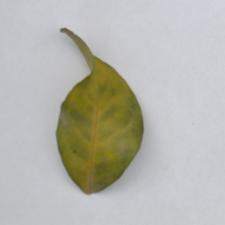Greening: (45, 31, 153, 189)
